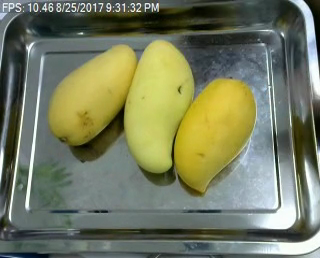Mango: (125, 38, 194, 173), (174, 79, 256, 192), (49, 45, 137, 144)
